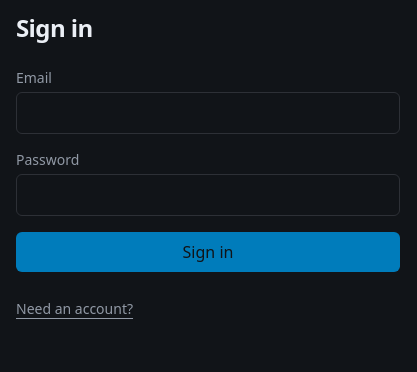
Test: SignIn › does not fetch a profile when the credentials were refused
This screenshot has width=417, height=372.
Type "nurse@example.test" into the field labelled "Email" at (208, 113), box [16, 92, 400, 134]
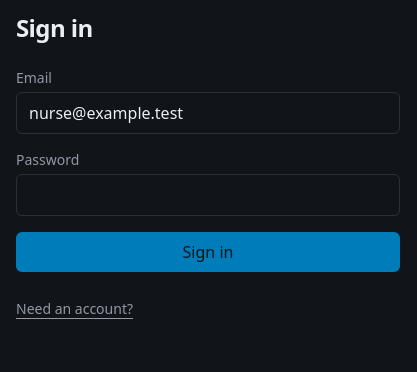
Type "a-sufficiently-long-password" into the password field labelled "Password" at (208, 195), box [16, 174, 400, 216]
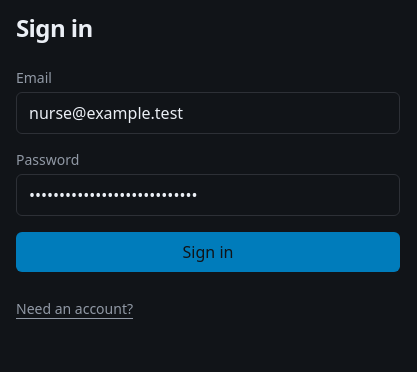
Click the button "Sign in" at (208, 252), box [16, 232, 400, 272]
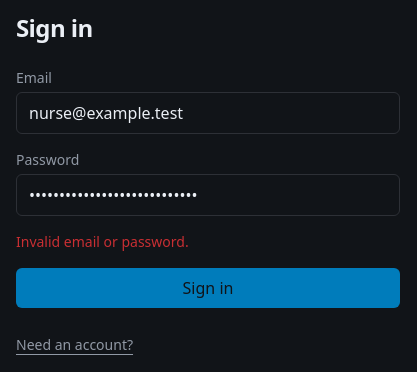
Expected: the message "Invalid email or password." is shown, [16, 232, 189, 251]
